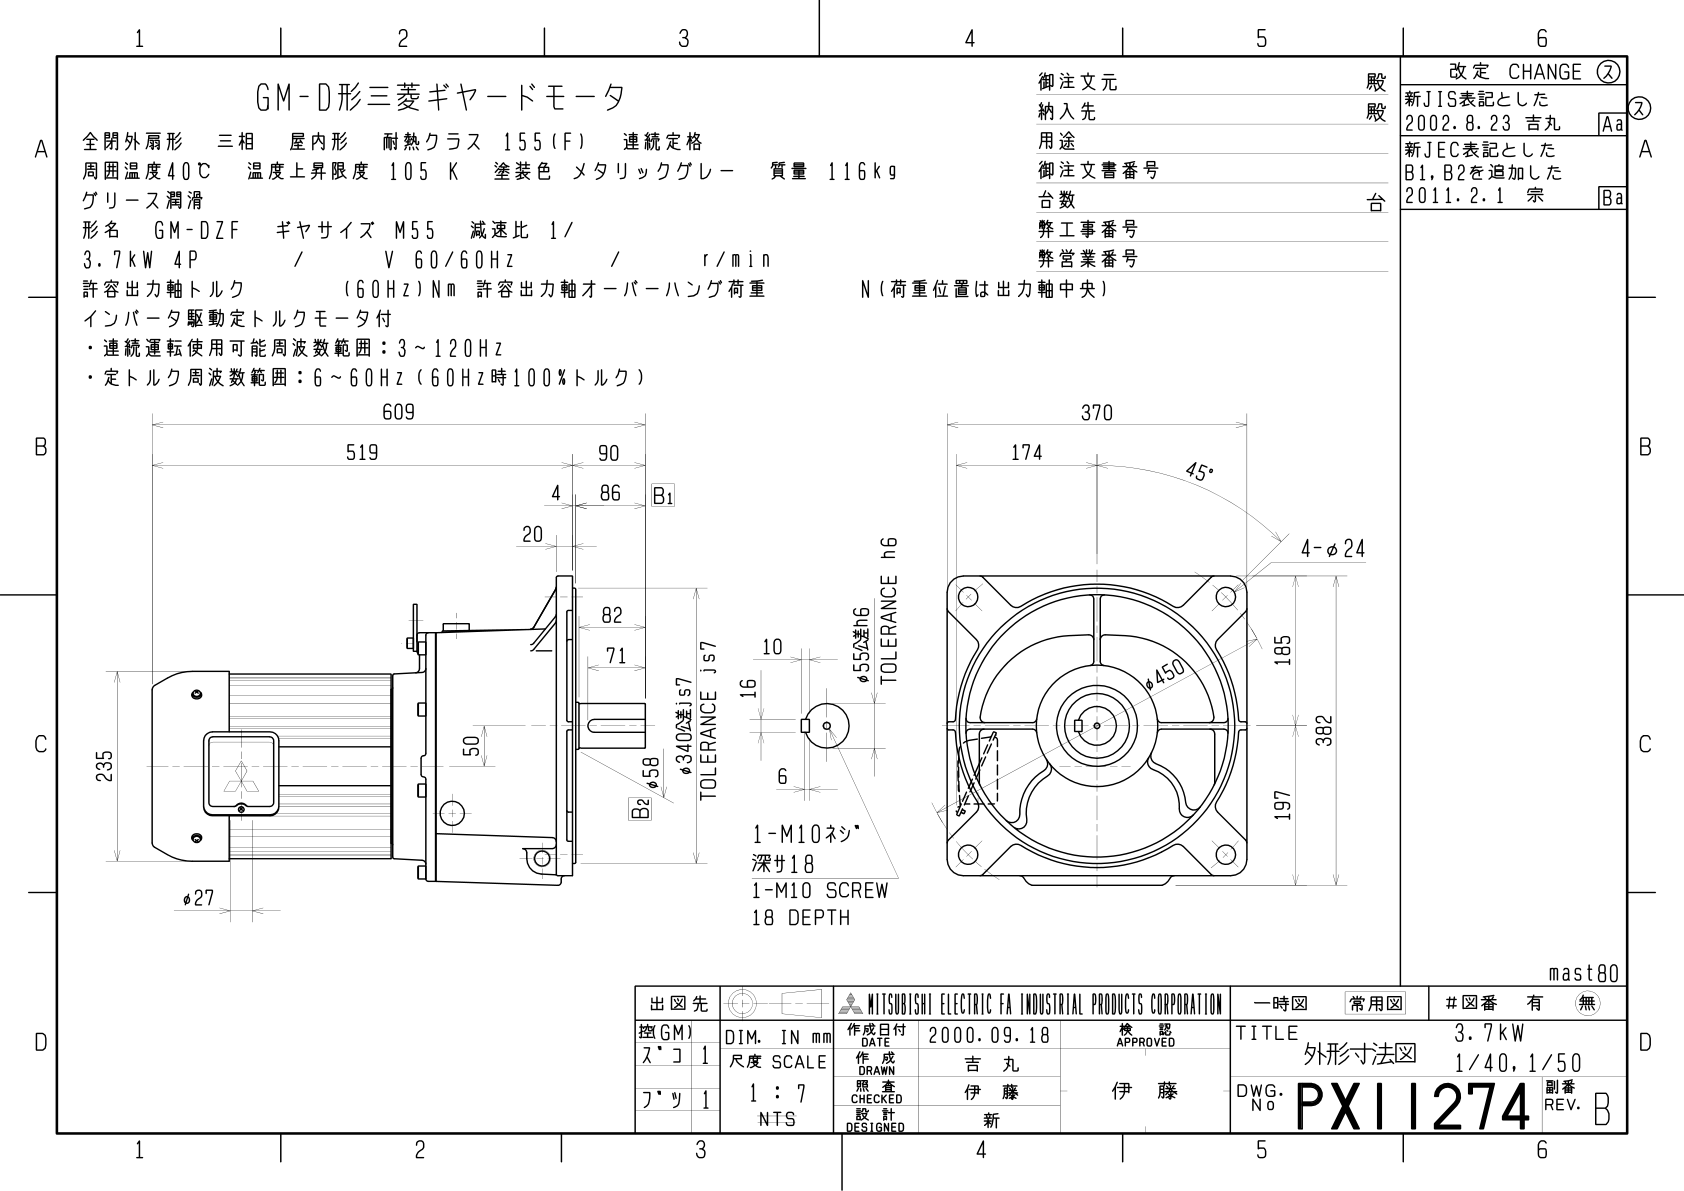GM_D_インバータ屋内_三相_フランジ: (1, 6, 1672, 1169)
